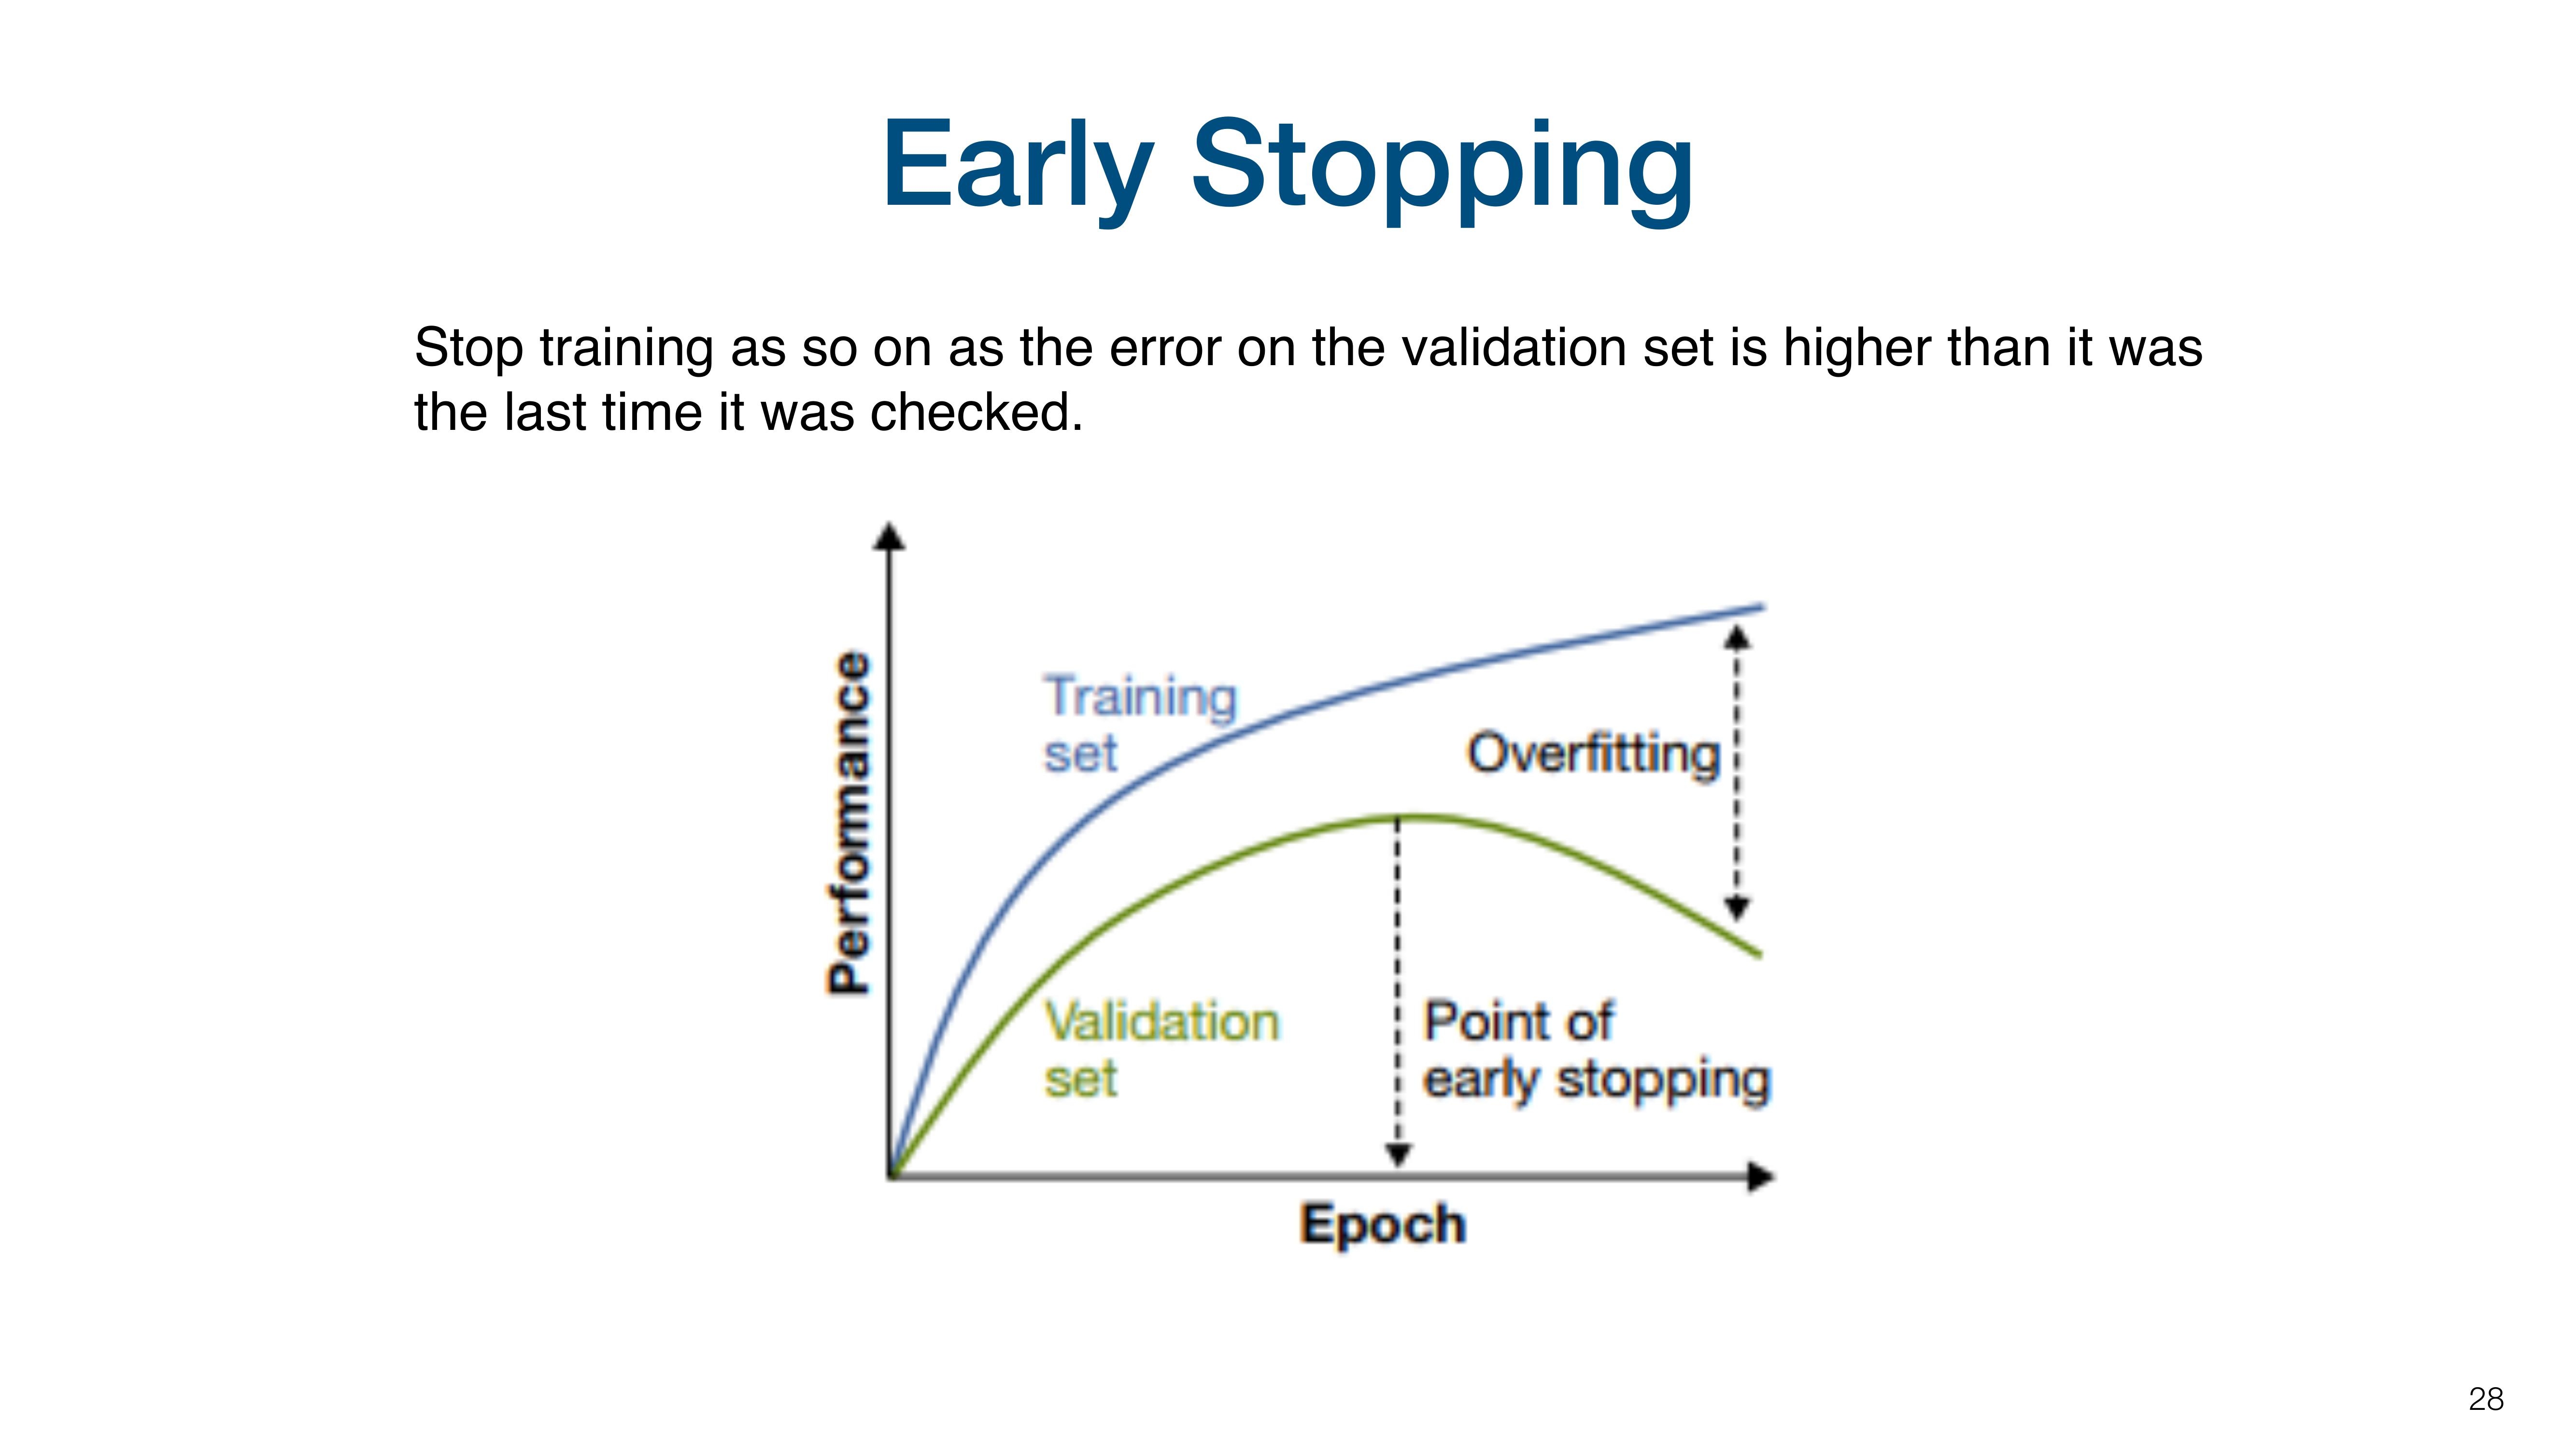Title: (867, 92, 1698, 248)
